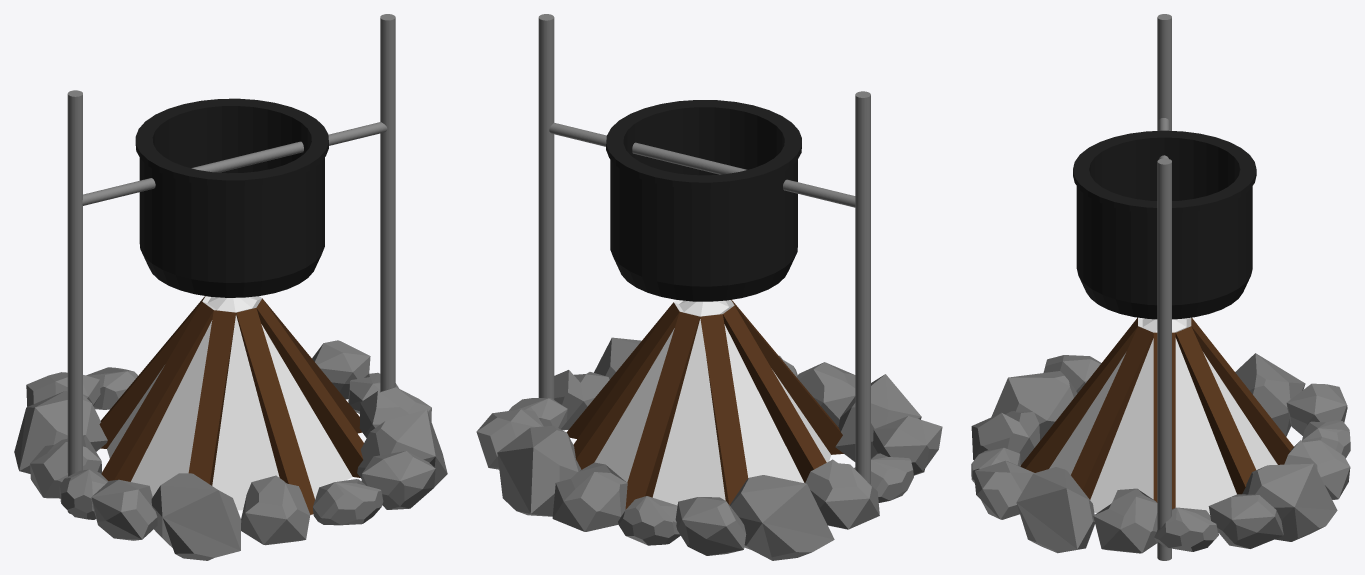
Rendered from Fire pit.fbx.
The picture shows the model from 3 angles, left to right: view 1: azimuth 30°, elevation 25°; view 2: azimuth 150°, elevation 25°; view 3: azimuth 270°, elevation 25°; orthographic projection. The views are drawn at different scales.
Visible parts, largest first — view 1: Cone; view 2: Cone; view 3: Cone.
Part boxes in pixels (x1,y1,x2,y2): Cone: (14, 14, 447, 560); Cone: (476, 14, 942, 560); Cone: (971, 14, 1350, 560).
Bounding box in the file's own units: 130 × 146 × 125.
